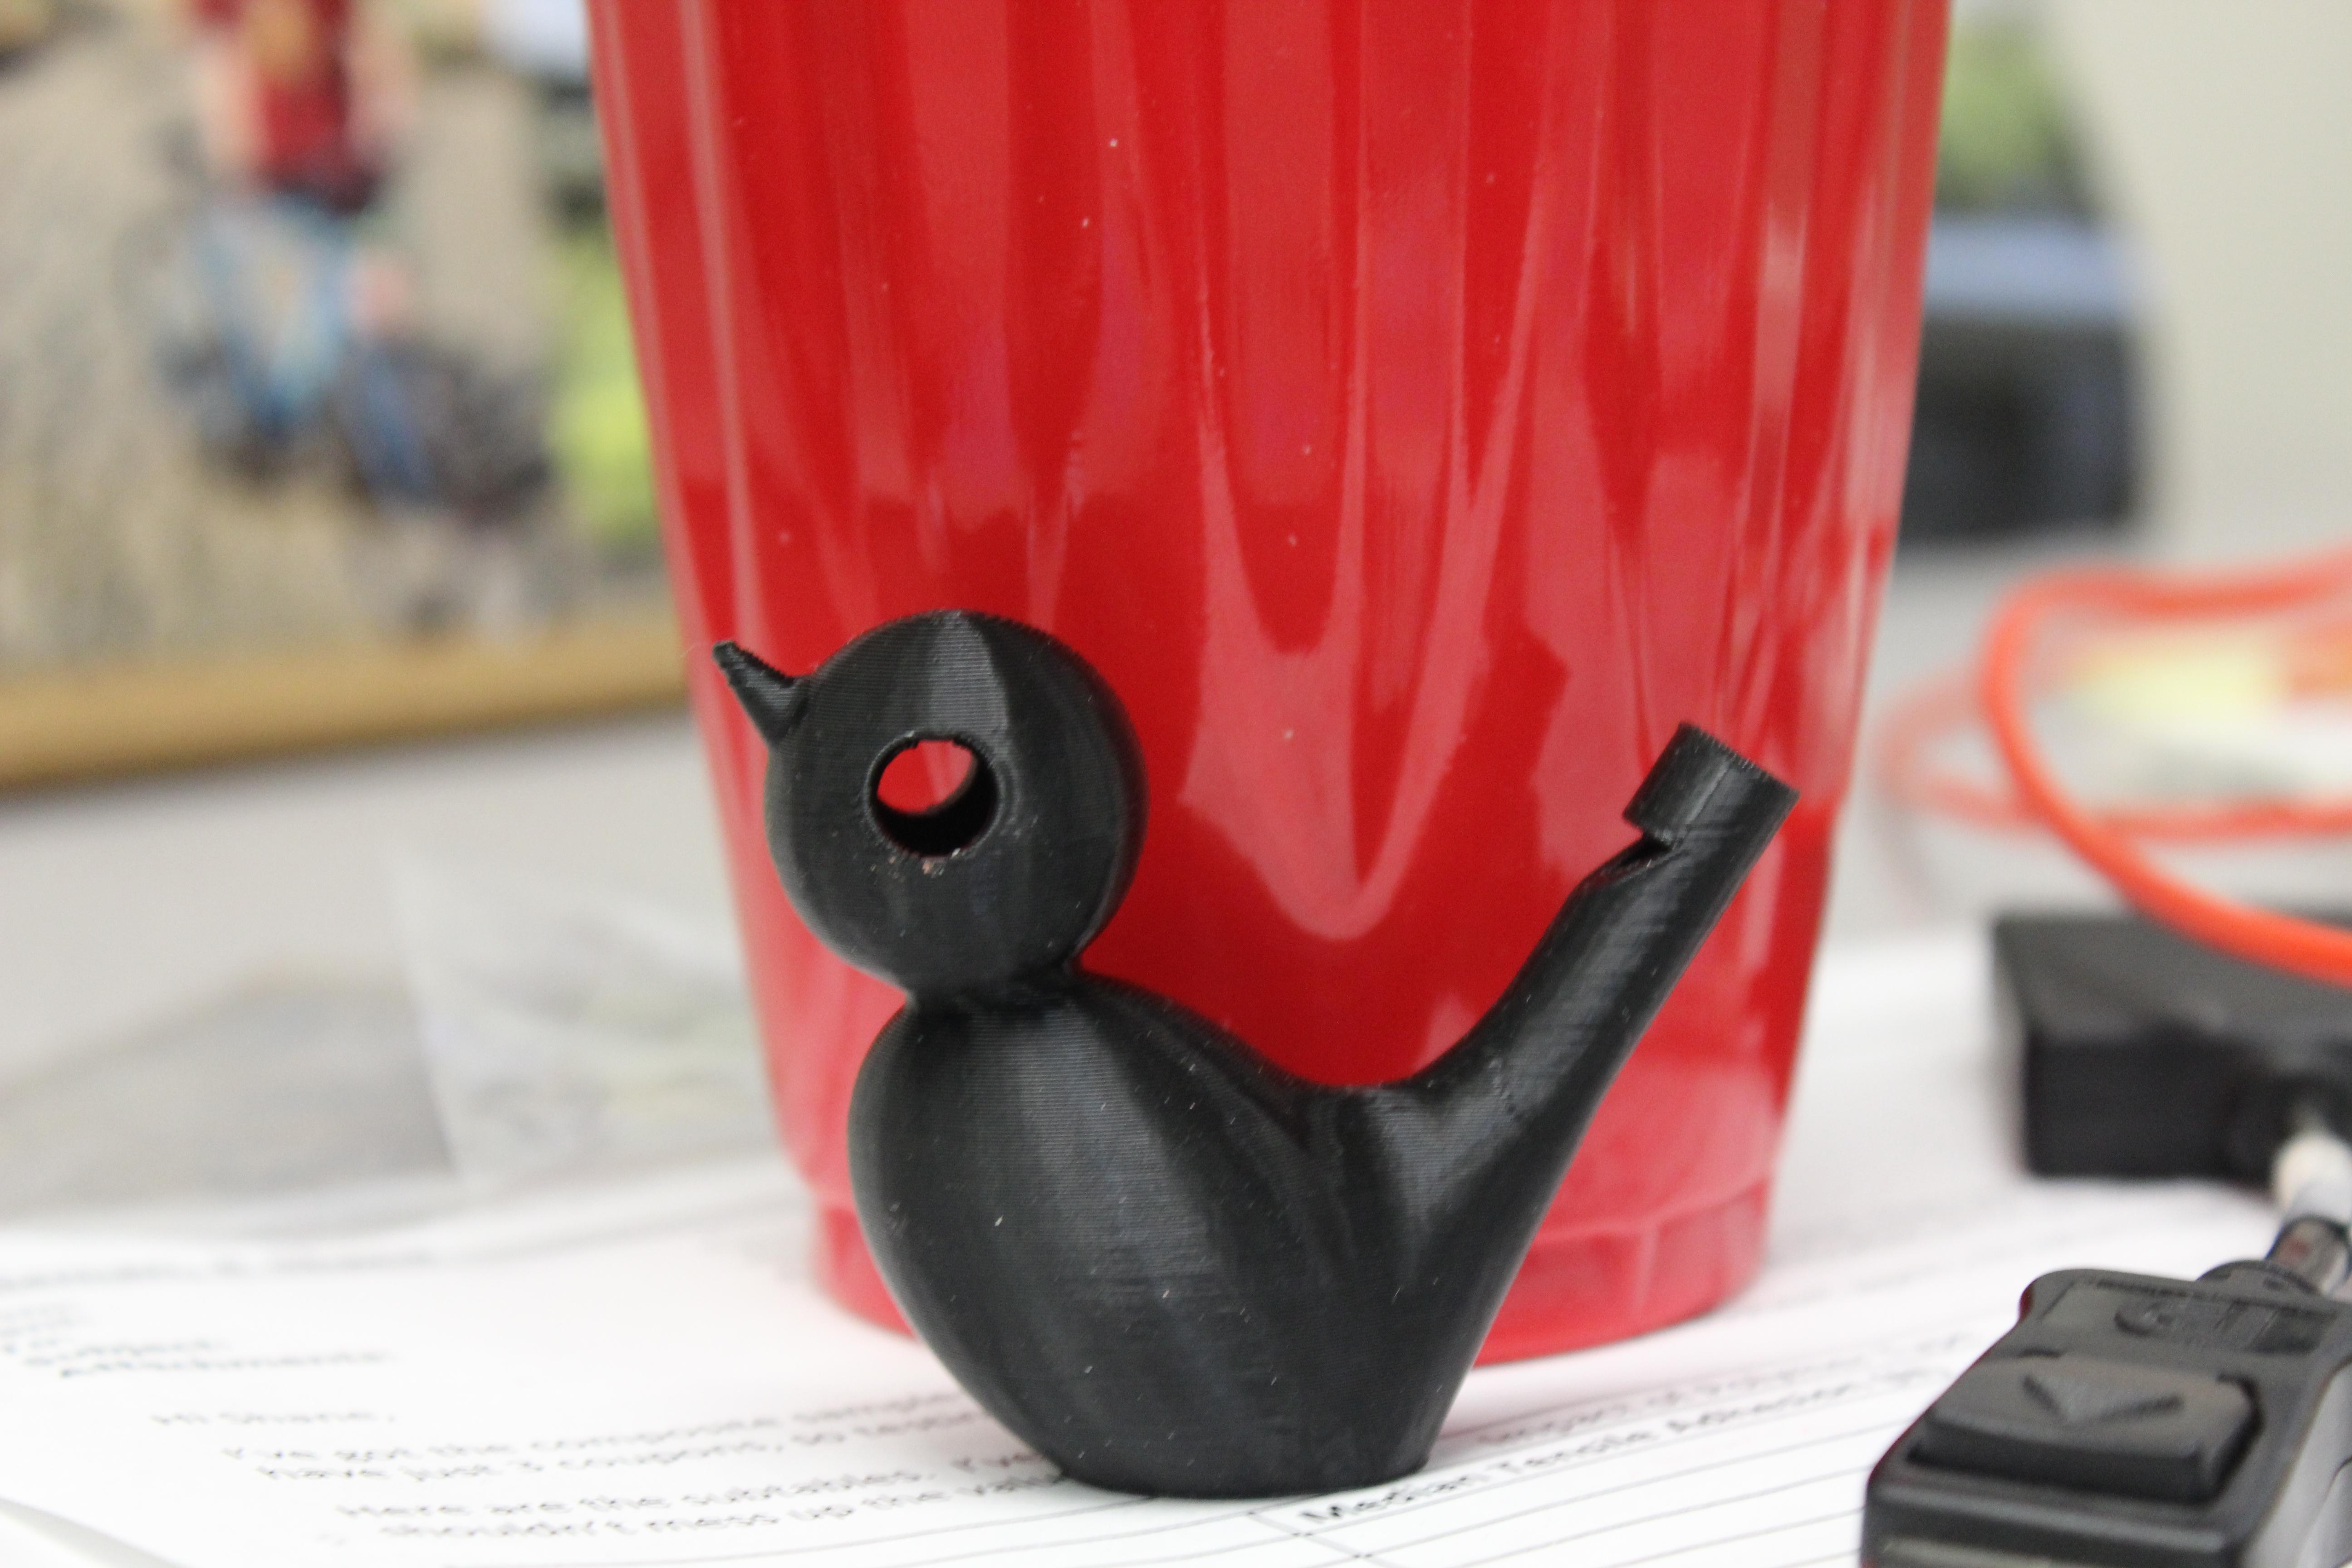birdCall: (620, 549, 1855, 1552)
